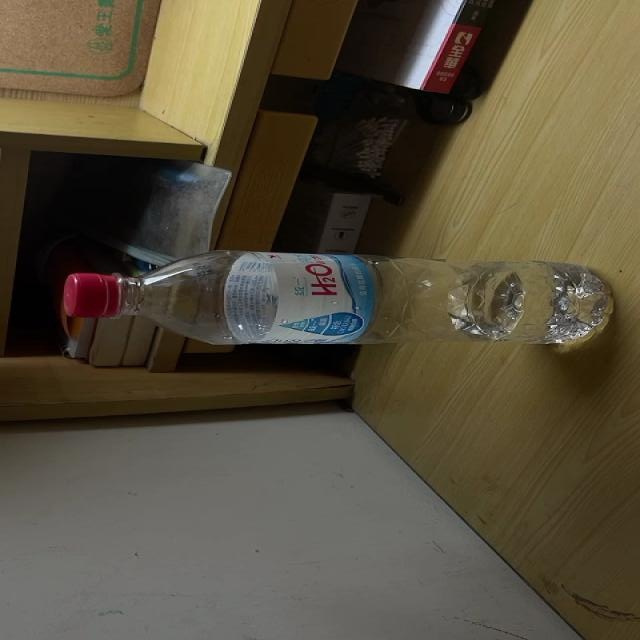Water: (63, 250, 612, 344)
